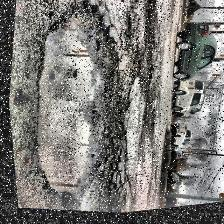pothole: (10, 0, 144, 222)
